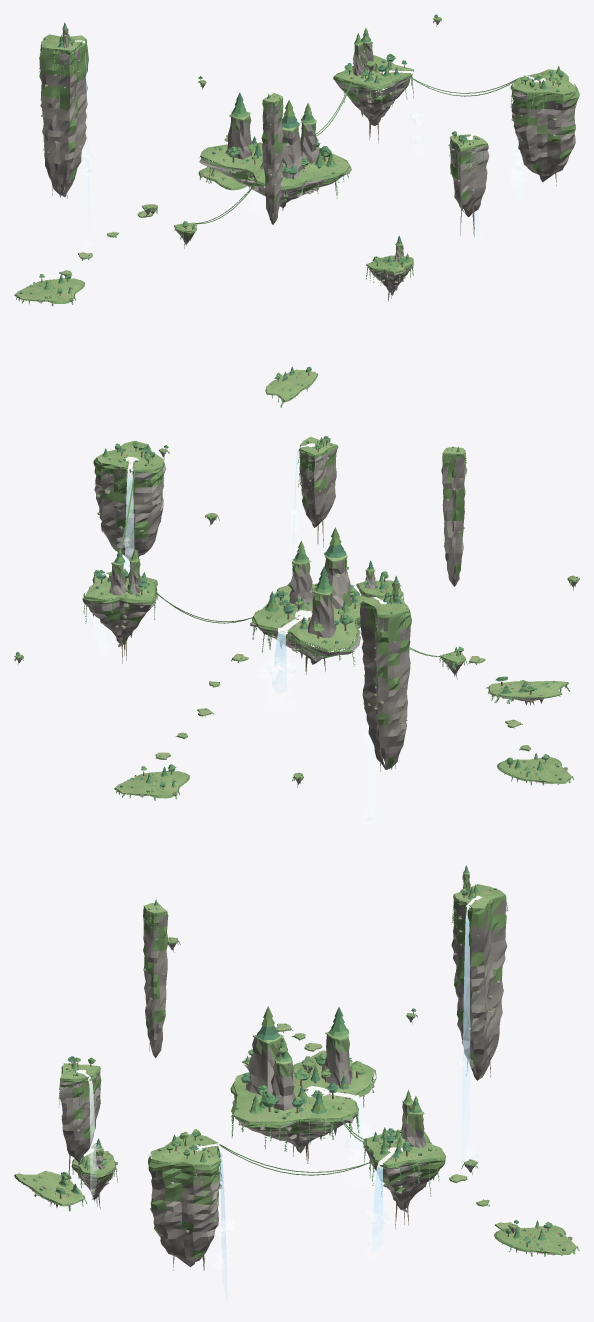
The model's file is skyislands_v7.glb.
3 renders of one model, top to bottom at view 1: azimuth 30°, elevation 25°; view 2: azimuth 150°, elevation 25°; view 3: azimuth 270°, elevation 25°, orthographic. The views are drawn at different scales.
Visible parts, largest first — view 1: Island_Plateau_Wide_0, Island_Tower_2, Island_Mesa_Tall_4, Island_Large_1, Island_Pillar_5, Island_Needle_3, Island_Flat_Low_9, Island_Medium_6, Island_Slab_Long_10, Island_Flat_Low_8; view 2: Island_Plateau_Wide_0, Island_Tower_2, Island_Mesa_Tall_4, Island_Large_1, Island_Pillar_5, Island_Needle_3, Island_Flat_Low_8, Island_Flat_Low_9, Island_Slab_Long_10, Island_Medium_6; view 3: Island_Plateau_Wide_0, Island_Tower_2, Island_Mesa_Tall_4, Island_Large_1, Island_Pillar_5, Island_Needle_3, Island_Flat_Low_8, Island_Slab_Long_10, Island_Medium_6.
Boxes of the visible parts, <box> form: Island_Plateau_Wide_0: <box>199,92,351,212</box>; Island_Tower_2: <box>39,22,93,251</box>; Island_Mesa_Tall_4: <box>509,66,579,205</box>; Island_Large_1: <box>333,28,425,155</box>; Island_Pillar_5: <box>449,131,489,238</box>; Island_Needle_3: <box>261,92,283,224</box>; Island_Flat_Low_9: <box>14,274,84,306</box>; Island_Medium_6: <box>366,235,413,301</box>; Island_Slab_Long_10: <box>265,366,318,407</box>; Island_Flat_Low_8: <box>198,162,246,190</box>; Island_Plateau_Wide_0: <box>250,527,376,711</box>; Island_Tower_2: <box>360,575,411,828</box>; Island_Mesa_Tall_4: <box>93,440,166,575</box>; Island_Large_1: <box>82,548,157,663</box>; Island_Pillar_5: <box>288,436,338,557</box>; Island_Needle_3: <box>441,446,466,586</box>; Island_Flat_Low_8: <box>114,764,189,800</box>; Island_Flat_Low_9: <box>497,753,574,785</box>; Island_Slab_Long_10: <box>485,676,569,705</box>; Island_Medium_6: <box>356,560,404,611</box>; Island_Plateau_Wide_0: <box>230,1006,376,1186</box>; Island_Tower_2: <box>451,865,507,1164</box>; Island_Mesa_Tall_4: <box>148,1129,234,1303</box>; Island_Large_1: <box>362,1090,445,1259</box>; Island_Pillar_5: <box>58,1056,101,1205</box>; Island_Needle_3: <box>143,899,168,1057</box>; Island_Flat_Low_8: <box>494,1220,579,1256</box>; Island_Slab_Long_10: <box>14,1171,87,1211</box>; Island_Medium_6: <box>71,1138,117,1208</box>.
Bounding box in the file's own units: 159 × 82.48 × 133.
